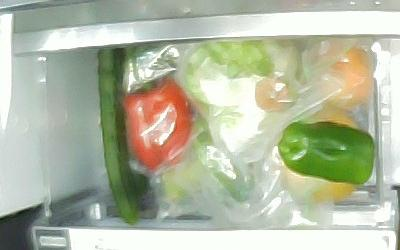broccoli_vinyl: (161, 119, 251, 209)
cucumber: (97, 48, 141, 226)
grapefruit_vinyl: (281, 111, 359, 202)
lettuce_vinyl: (184, 39, 302, 151)
paprika: (279, 121, 375, 186)
paprika_vinyl: (124, 77, 190, 171)
peach_vinyl: (316, 44, 373, 110)
